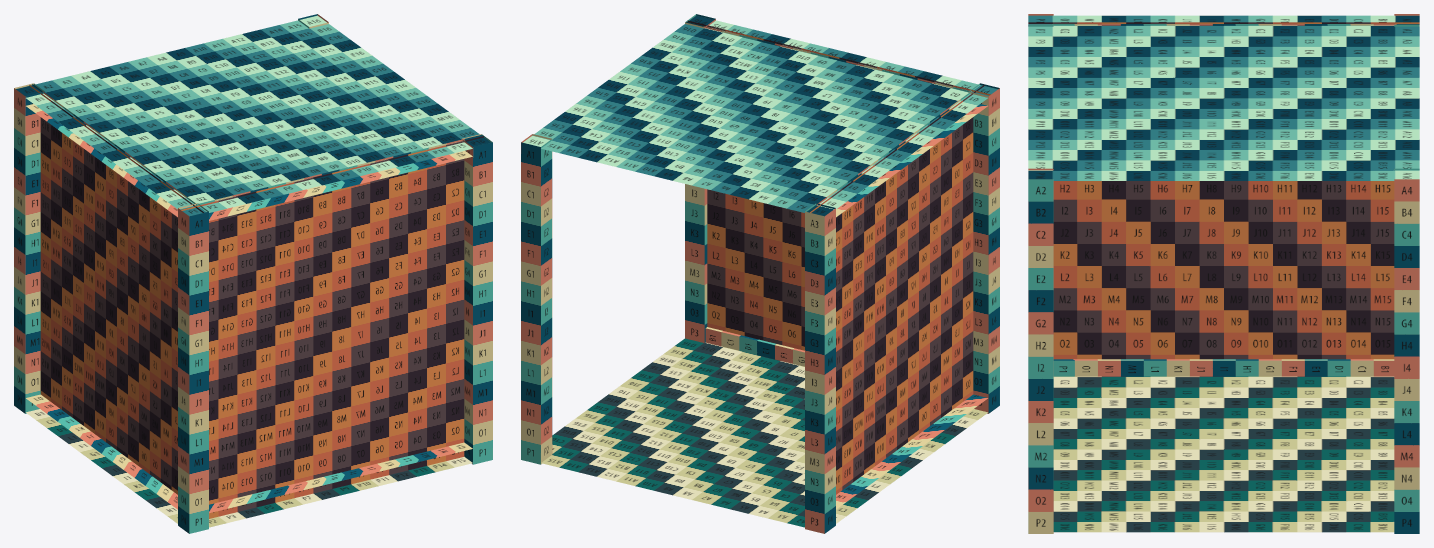
The model's file is Cor_2.fbx.
3 views of the same model, side by side, from view 1: azimuth 30°, elevation 25°; view 2: azimuth 150°, elevation 25°; view 3: azimuth 270°, elevation 25° (orthographic). The views are drawn at different scales.
Visible parts, largest first — view 1: Cor_2_Walls, Cor_2_Ceiling, Cor_2_PL_Wall, Cor_2_PL_FL, Cor_2_Floor, Cor_2_PL_CL; view 2: Cor_2_Walls, Cor_2_Ceiling, Cor_2_Floor, Cor_2_PL_Wall, Cor_2_PL_FL, Cor_2_PL_CL; view 3: Cor_2_Ceiling, Cor_2_Walls, Cor_2_Floor, Cor_2_PL_Wall, Cor_2_PL_FL, Cor_2_PL_CL.
Boxes of the visible parts, left/top/right/bottom form: Cor_2_Walls: left=29, top=84, right=483, bottom=518; Cor_2_Ceiling: left=16, top=15, right=490, bottom=216; Cor_2_PL_Wall: left=14, top=14, right=492, bottom=533; Cor_2_PL_FL: left=26, top=394, right=472, bottom=513; Cor_2_Floor: left=26, top=409, right=472, bottom=527; Cor_2_PL_CL: left=26, top=84, right=482, bottom=220; Cor_2_Walls: left=687, top=20, right=990, bottom=494; Cor_2_Ceiling: left=523, top=15, right=997, bottom=216; Cor_2_Floor: left=541, top=338, right=987, bottom=527; Cor_2_PL_Wall: left=521, top=14, right=999, bottom=533; Cor_2_PL_FL: left=705, top=327, right=987, bottom=509; Cor_2_PL_CL: left=686, top=22, right=987, bottom=217; Cor_2_Ceiling: left=1028, top=15, right=1419, bottom=180; Cor_2_Walls: left=1028, top=22, right=1419, bottom=359; Cor_2_Floor: left=1053, top=376, right=1394, bottom=532; Cor_2_PL_Wall: left=1028, top=14, right=1419, bottom=533; Cor_2_PL_FL: left=1053, top=359, right=1394, bottom=376; Cor_2_PL_CL: left=1051, top=24, right=1419, bottom=25.
Size of the model in its own units: 200 by 200 by 200.
